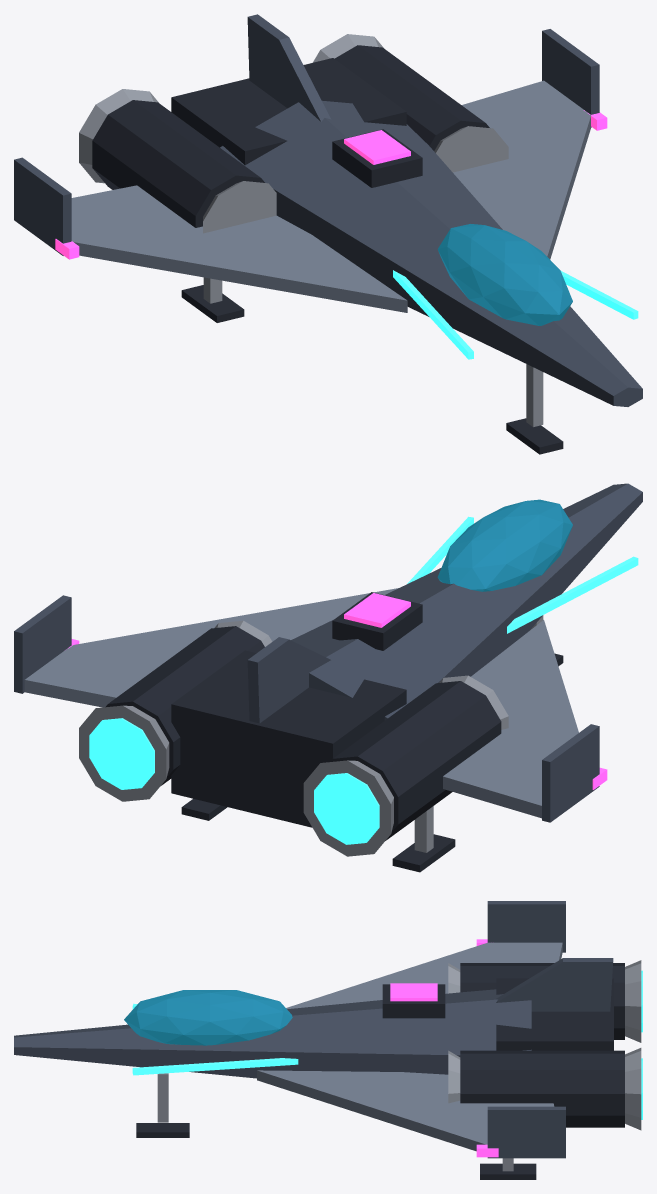
The model's file is spaceship_smuggler.glb.
The picture shows the model from 3 angles, top to bottom: view 1: azimuth 30°, elevation 25°; view 2: azimuth 150°, elevation 25°; view 3: azimuth 270°, elevation 25°; orthographic projection. The views are drawn at different scales.
Parts seen in each view (by area): view 1: spaceship_smuggler; view 2: spaceship_smuggler; view 3: spaceship_smuggler.
Boxes of the visible parts, x1,y1,x2,y2 form: spaceship_smuggler: (14,14,642,454); spaceship_smuggler: (14,483,642,872); spaceship_smuggler: (14,901,642,1179).
Bounding box in the file's own units: 3.16 × 1.22 × 4.01.
